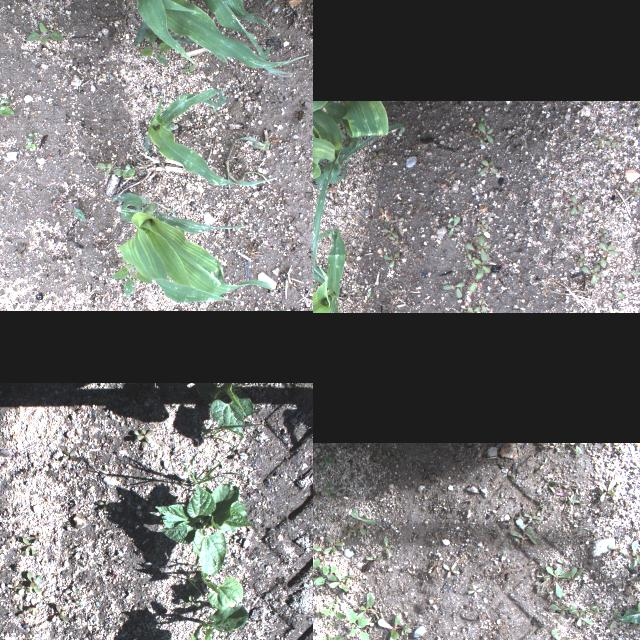crop: (59, 0, 309, 76), (111, 192, 272, 310), (313, 100, 404, 287), (144, 88, 278, 186), (150, 483, 250, 579), (181, 572, 247, 640), (192, 385, 262, 443)
weed: (180, 446, 242, 492), (223, 136, 270, 192), (508, 512, 544, 550), (140, 27, 174, 67), (111, 264, 151, 298), (544, 565, 582, 597), (338, 508, 374, 538), (122, 424, 160, 450), (548, 604, 592, 626), (13, 596, 43, 626), (375, 611, 406, 640), (25, 22, 65, 44), (344, 608, 368, 640), (58, 195, 86, 221), (58, 582, 84, 608), (612, 602, 640, 624), (14, 537, 38, 561), (49, 602, 71, 628), (53, 446, 79, 466), (24, 569, 44, 595), (358, 593, 378, 619), (319, 602, 345, 620), (96, 162, 124, 178), (328, 571, 349, 591), (313, 565, 335, 584), (322, 536, 344, 554), (581, 264, 599, 284), (181, 573, 199, 593), (320, 481, 340, 499), (442, 282, 464, 298), (477, 121, 493, 143), (599, 480, 615, 502), (628, 539, 640, 568), (0, 93, 14, 117), (179, 596, 203, 610), (4, 581, 28, 595), (568, 195, 584, 215), (476, 236, 489, 260), (534, 572, 548, 594), (479, 158, 497, 174), (382, 250, 398, 268), (598, 243, 618, 257), (469, 272, 483, 292), (91, 498, 111, 512), (551, 629, 575, 640), (318, 456, 334, 472), (339, 566, 353, 584), (447, 217, 459, 236), (121, 163, 135, 179), (473, 260, 489, 274), (469, 127, 483, 143), (340, 249, 356, 263), (591, 134, 609, 146), (607, 544, 627, 554), (180, 64, 194, 78), (106, 568, 120, 582), (590, 600, 604, 614), (317, 633, 345, 640), (371, 149, 384, 163), (382, 536, 390, 558), (596, 228, 608, 242), (390, 214, 404, 226), (630, 184, 640, 200), (466, 244, 482, 254), (382, 228, 398, 238), (263, 0, 289, 6), (477, 218, 488, 232), (608, 138, 620, 150), (313, 558, 318, 586), (23, 140, 34, 152), (313, 533, 319, 554), (0, 544, 5, 569), (567, 493, 579, 503), (467, 253, 475, 267), (478, 298, 486, 312), (33, 530, 41, 544), (500, 469, 514, 477), (570, 442, 580, 453), (465, 306, 480, 313), (634, 266, 640, 282), (612, 136, 620, 148), (578, 254, 586, 266), (600, 256, 608, 268), (24, 626, 36, 634), (262, 142, 272, 150), (396, 240, 406, 248), (365, 557, 383, 561), (614, 292, 624, 298), (626, 192, 632, 202), (609, 620, 615, 630), (633, 269, 640, 277), (454, 308, 465, 313), (637, 171, 640, 185), (637, 144, 640, 158), (27, 132, 37, 136), (468, 126, 472, 136), (43, 294, 49, 300), (132, 307, 140, 311), (52, 200, 56, 208), (76, 86, 80, 92), (35, 221, 41, 225), (637, 101, 640, 109), (262, 208, 266, 212), (368, 290, 370, 298), (222, 66, 224, 72)
